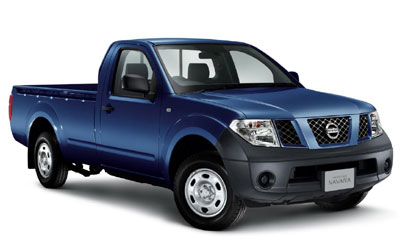pickup: (8, 36, 394, 232)
